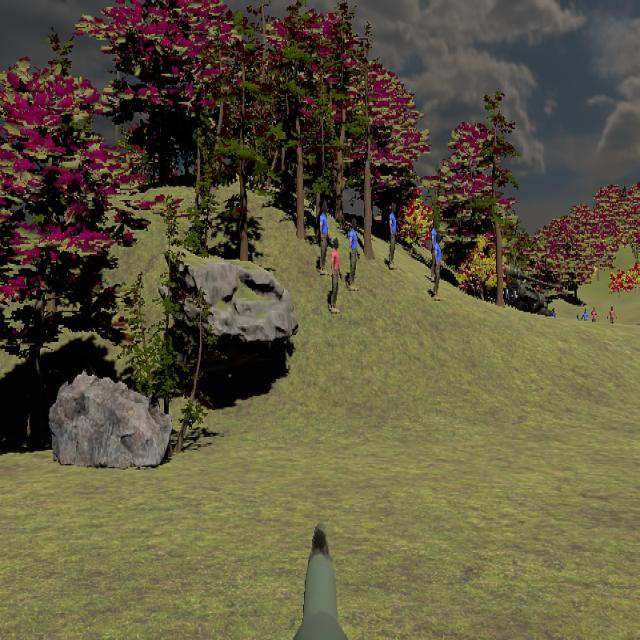Human: (318, 202, 330, 275), (349, 217, 360, 292), (331, 239, 342, 311), (432, 229, 442, 300), (388, 202, 397, 270)
Tank: (499, 266, 564, 316)
